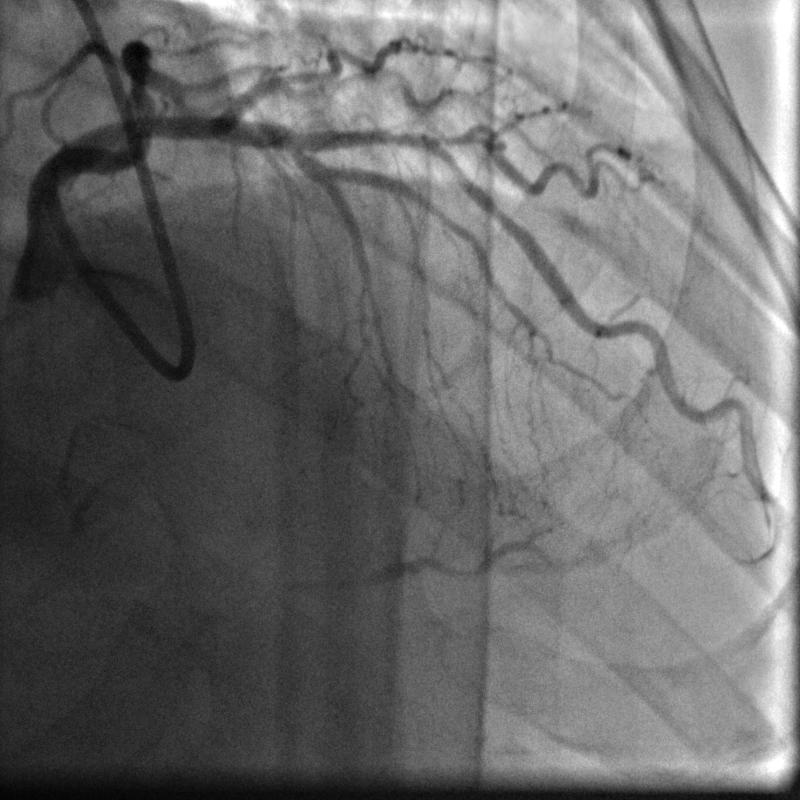Stenosis: (353, 123, 442, 157)
